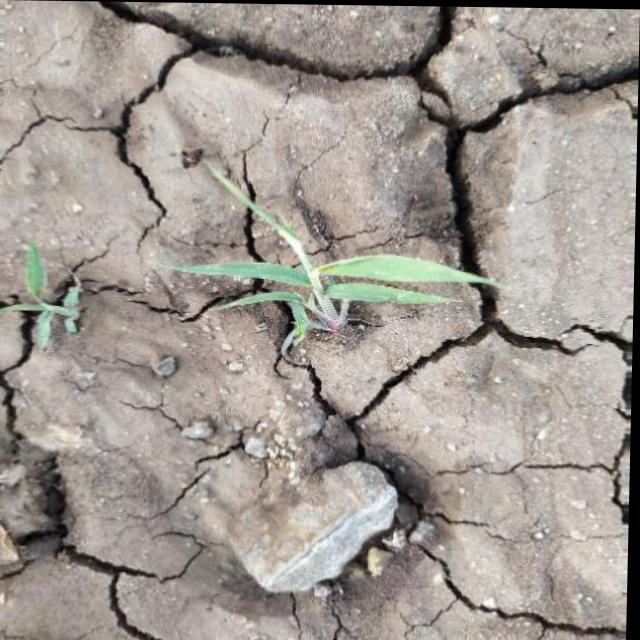weed: (151, 133, 524, 389)
